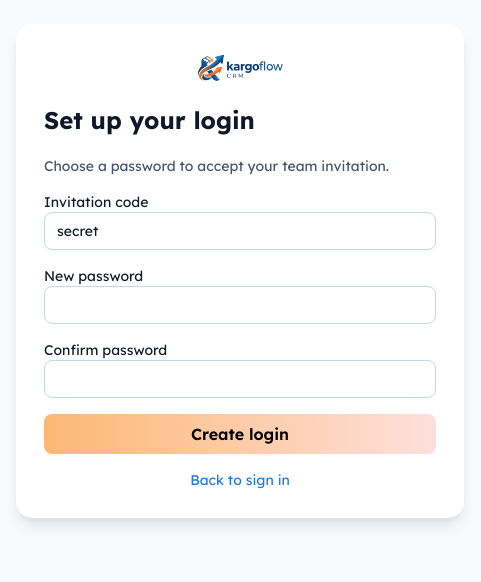
Test case: explains recovery from expired or used invitations
In the password field labelled "New password": (240, 305) [44,286,436,324], type "Strong-password-27!"
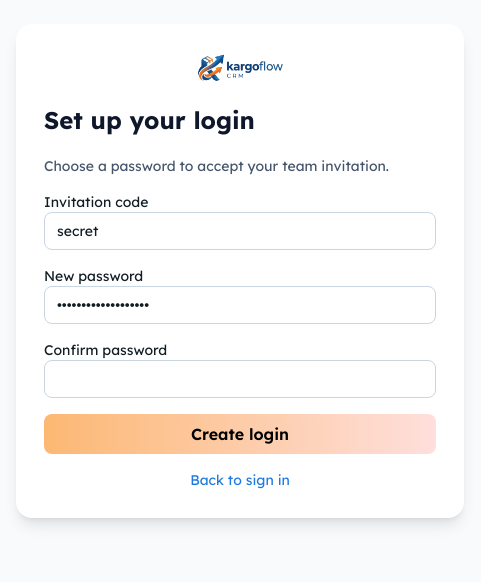
In the password field labelled "Confirm password": (240, 379) [44,360,436,398], type "Strong-password-27!"
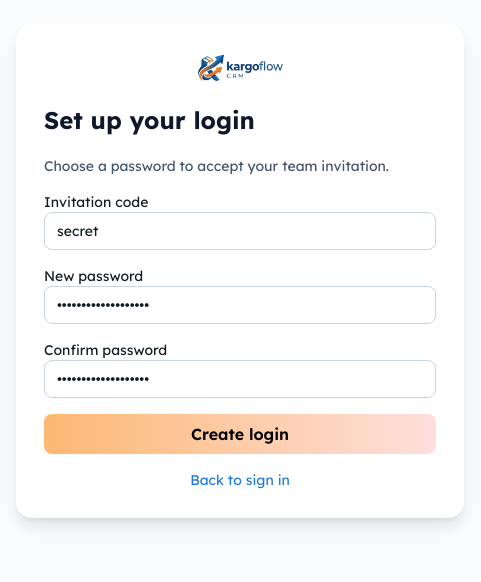
Click the button "Create login": (240, 434) [44,414,436,454]
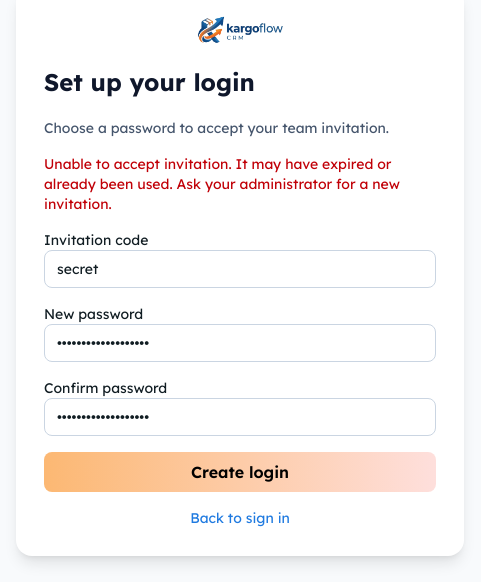
Expected: the message shows "Ask your administrator for a new invitation", [44,155,400,213]
